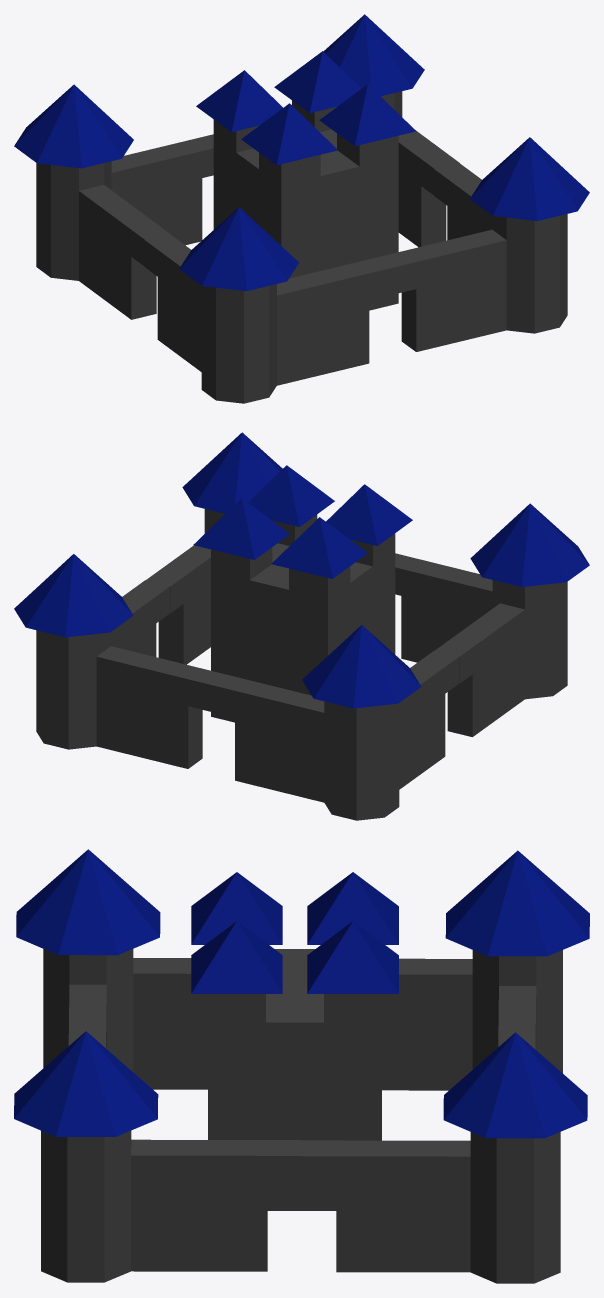
The model's file is Castle.fbx.
3 views of the same model, one above another, from view 1: azimuth 30°, elevation 25°; view 2: azimuth 150°, elevation 25°; view 3: azimuth 270°, elevation 25° (orthographic). The views are drawn at different scales.
Visible parts, largest first — view 1: Wall4, Castle; view 2: Wall4, Castle; view 3: Wall4, Castle.
Boxes of the visible parts, x1,y1,x2,y2 form: Wall4: (14, 14, 589, 403); Castle: (196, 51, 415, 310); Wall4: (14, 432, 589, 820); Castle: (193, 465, 412, 722); Wall4: (14, 849, 589, 1283); Castle: (191, 872, 398, 1210).
Bounding box in the file's own units: 8.29 × 4.4 × 8.27.
Materials: 2 (2 with a texture image).
